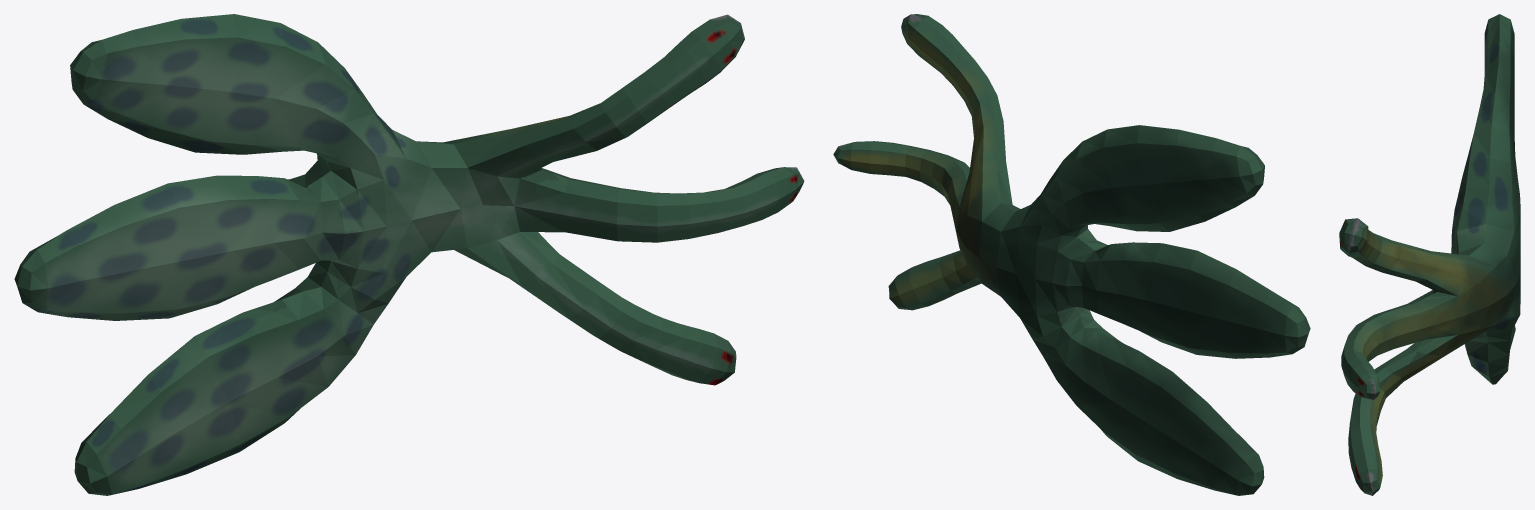
The model's file is Hydra.obj.
3 renders of one model, left to right at view 1: azimuth 30°, elevation 25°; view 2: azimuth 150°, elevation 25°; view 3: azimuth 270°, elevation 25°, orthographic. The views are drawn at different scales.
Parts seen in each view (by area): view 1: Cube; view 2: Cube; view 3: Cube.
Boxes of the visible parts, left/top/right/bottom form: Cube: left=14, top=14, right=804, bottom=495; Cube: left=833, top=14, right=1310, bottom=495; Cube: left=1339, top=14, right=1520, bottom=495.
Size of the model in its own units: 17.82 by 11.16 by 5.53.
